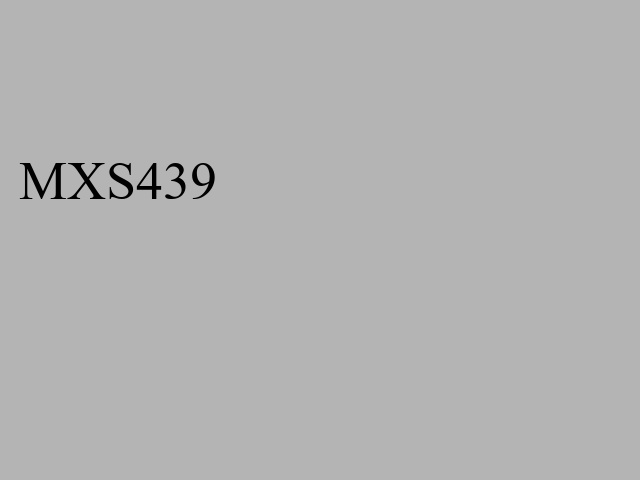OCR_AREA: (15, 159, 221, 203)
